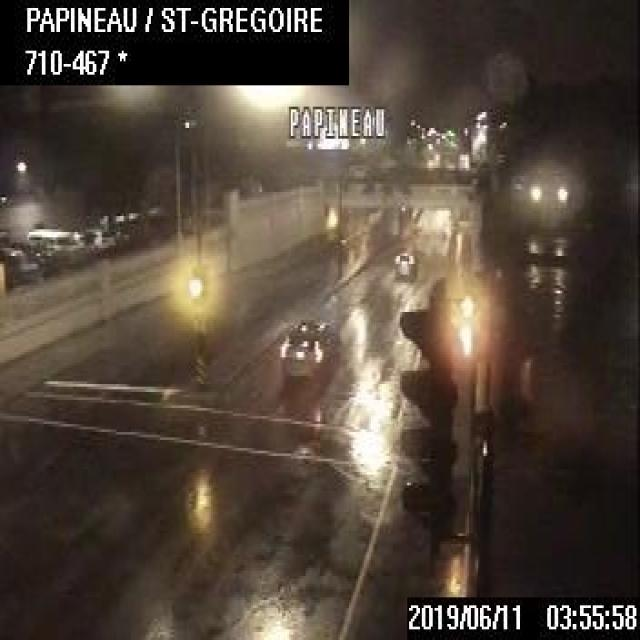vehicle: (276, 320, 333, 379), (24, 222, 85, 264), (86, 224, 118, 256), (388, 248, 417, 277)
